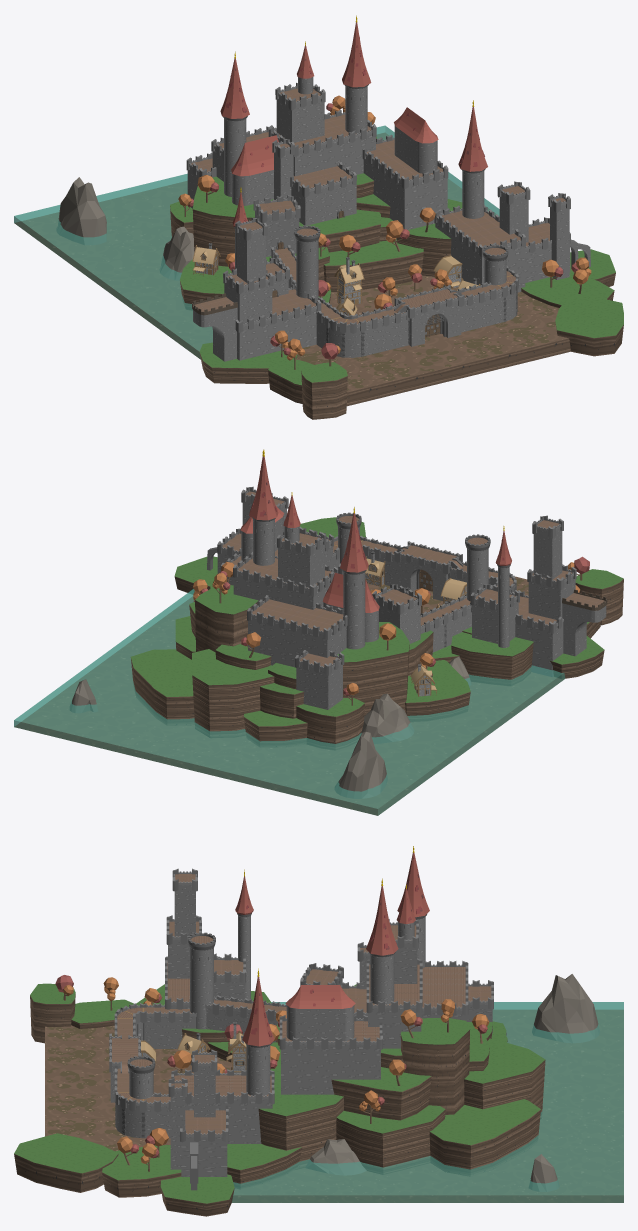
Rendered from Scena_02.fbx.
3 renders of one model, top to bottom at view 1: azimuth 30°, elevation 25°; view 2: azimuth 150°, elevation 25°; view 3: azimuth 270°, elevation 25°, orthographic. The views are drawn at different scales.
Visible parts, largest first — view 1: polySurface365; view 2: polySurface365; view 3: polySurface365.
Part boxes in pixels (x1=…): polySurface365: x1=14, y1=15, x2=623, y2=419; polySurface365: x1=14, y1=449, x2=623, y2=815; polySurface365: x1=14, y1=846, x2=623, y2=1216.
Bounding box in the file's own units: 168 × 90.14 × 196.
